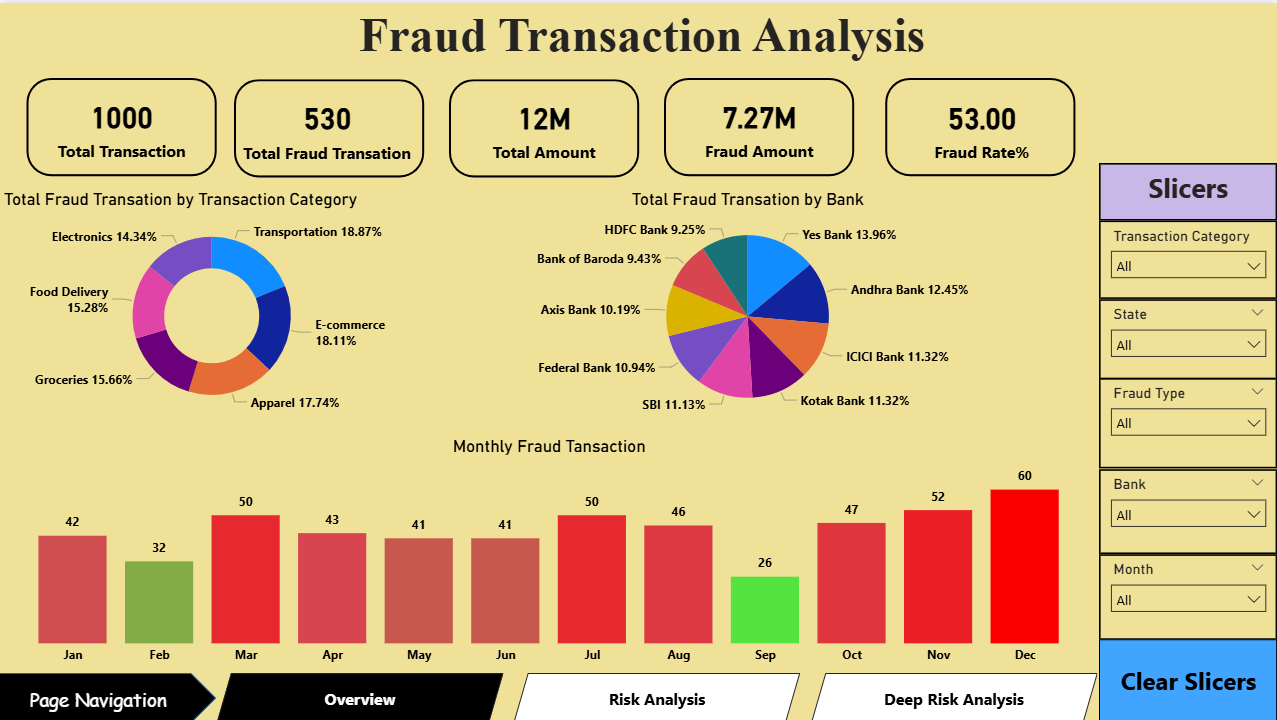

The dashboard page shown, as its layout file describes it:
{"tool":"powerbi","page":{"name":"Overview","canvas":[1280,720],"ordinal":0},"visuals":[{"type":"shape","box":[27,74.8,190.2,98.2],"z":0,"group":"g1"},{"type":"shape","box":[665,74.8,190.2,98.2],"z":0,"group":"g8"},{"type":"shape","box":[885.9,74.8,190.2,98.2],"z":0,"group":"g6"},{"type":"shape","box":[235.6,76.1,190.2,98.2],"z":0,"group":"g3"},{"type":"shape","box":[450.3,76.1,190.2,98.2],"z":0,"group":"g2"},{"type":"pageNavigator","box":[217.2,669.9,883.4,50.3],"z":0,"group":"g10"},{"type":"group","id":"g1","title":"Group 1","box":[27,74.8,190.2,98.2],"z":1000},{"type":"card","fields":{"Values":["Credit Card Fraud Risk Analysis.Total Transaction"]},"box":[43,78.5,158.3,89.6],"z":1000,"group":"g1"},{"type":"card","fields":{"Values":["Credit Card Fraud Risk Analysis.Fraud Amount"]},"box":[681,78.5,158.3,89.6],"z":1000,"group":"g9"},{"type":"card","fields":{"Values":["Credit Card Fraud Risk Analysis.Total Fraud Transation"]},"box":[239.4,78.9,179.1,93.3],"z":1000,"group":"g3"},{"type":"card","fields":{"Values":["Credit Card Fraud Risk Analysis.Fraud Rate%"]},"box":[903.1,79.7,158.3,89.6],"z":1000,"group":"g7"},{"type":"card","fields":{"Values":["Credit Card Fraud Risk Analysis.Total Revenue"]},"box":[466.3,79.8,158.3,89.6],"z":1000,"group":"g2"},{"type":"shape","box":[0,669.9,217.2,50.3],"z":1000,"group":"g10"},{"type":"group","id":"g2","title":"Group 1","box":[450.3,76.1,190.2,98.2],"z":2000},{"type":"textbox","box":[17.2,678.5,163.2,41.7],"z":2000,"group":"g10"},{"type":"group","id":"g3","title":"Group 1","box":[235.6,76.1,190.2,98.2],"z":3000},{"type":"group","id":"g4","title":"Group 2","box":[885.9,74.8,190.2,98.2],"z":4000},{"type":"group","id":"g5","title":"Group 3","box":[665,74.8,190.2,98.2],"z":5000},{"type":"group","id":"g6","title":"Group 1","box":[885.9,74.8,190.2,98.2],"z":5000,"group":"g4"},{"type":"group","id":"g7","title":"Group 1","box":[903.1,79.7,158.3,89.6],"z":6000,"group":"g4"},{"type":"group","id":"g8","title":"Group 1","box":[665,74.8,190.2,98.2],"z":7000,"group":"g5"},{"type":"clusteredColumnChart","title":"Monthly Fraud Tansaction","fields":{"Y":["Credit Card Fraud Risk Analysis.Total Fraud Transation"],"Category":["Calender.MonthName"]},"box":[0,431.9,1100.6,238],"z":7000},{"type":"group","id":"g9","title":"Group 1","box":[681,78.5,158.3,89.6],"z":8000,"group":"g5"},{"type":"textbox","box":[6.1,0,1273.6,65],"z":9000},{"type":"slicer","fields":{"Values":["Calender.MonthName"]},"box":[1100.6,550.9,179.1,85.9],"z":10000},{"type":"actionButton","box":[1100.6,636.8,179.1,83.4],"z":11000},{"type":"slicer","fields":{"Values":["Credit Card Fraud Risk Analysis.Bank"]},"box":[1100.6,466.3,179.1,84.7],"z":12000},{"type":"slicer","fields":{"Values":["Credit Card Fraud Risk Analysis.Fraud Type"]},"box":[1100.6,375.5,179.1,90.8],"z":13000},{"type":"slicer","fields":{"Values":["Credit Card Fraud Risk Analysis.State"]},"box":[1100.6,295.7,179.1,79.8],"z":14000},{"type":"slicer","fields":{"Values":["Credit Card Fraud Risk Analysis.Transaction Category"]},"box":[1100.6,217.2,179.1,78.5],"z":15000},{"type":"textbox","box":[1100.6,159.5,179.1,57.7],"z":16000},{"type":"group","id":"g10","title":"Group 4","box":[0,669.9,1100.6,50.3],"z":16005},{"type":"donutChart","fields":{"Category":["Credit Card Fraud Risk Analysis.Transaction Category"],"Y":["Credit Card Fraud Risk Analysis.Total Fraud Transation"]},"box":[0,186.5,425.8,234.4],"z":16006},{"type":"pieChart","fields":{"Category":["Credit Card Fraud Risk Analysis.Bank"],"Y":["Credit Card Fraud Risk Analysis.Total Fraud Transation"]},"box":[418.4,186.5,660.1,235.6],"z":16007}]}

Visuals, with their boxes in screenshot pixels (x1, y1, x2, y2), scaled from the page's 1280x720 canvas onto the 1277x720 screenshot:
shape: locate(27, 75, 217, 173)
shape: locate(663, 75, 853, 173)
shape: locate(884, 75, 1074, 173)
shape: locate(235, 76, 425, 174)
shape: locate(449, 76, 639, 174)
pageNavigator: locate(217, 670, 1098, 719)
"Group 1" group: locate(27, 75, 217, 173)
card - Credit Card Fraud Risk Analysis.Total Transaction: locate(43, 78, 201, 168)
card - Credit Card Fraud Risk Analysis.Fraud Amount: locate(679, 78, 837, 168)
card - Credit Card Fraud Risk Analysis.Total Fraud Transation: locate(239, 79, 418, 172)
card - Credit Card Fraud Risk Analysis.Fraud Rate%: locate(901, 80, 1059, 169)
card - Credit Card Fraud Risk Analysis.Total Revenue: locate(465, 80, 623, 169)
shape: locate(0, 670, 217, 719)
"Group 1" group: locate(449, 76, 639, 174)
textbox: locate(17, 678, 180, 719)
"Group 1" group: locate(235, 76, 425, 174)
"Group 2" group: locate(884, 75, 1074, 173)
"Group 3" group: locate(663, 75, 853, 173)
"Group 1" group: locate(884, 75, 1074, 173)
"Group 1" group: locate(901, 80, 1059, 169)
"Group 1" group: locate(663, 75, 853, 173)
"Monthly Fraud Tansaction" clusteredColumnChart: locate(0, 432, 1098, 670)
"Group 1" group: locate(679, 78, 837, 168)
textbox: locate(6, 0, 1276, 65)
slicer - Calender.MonthName: locate(1098, 551, 1276, 637)
actionButton: locate(1098, 637, 1276, 719)
slicer - Credit Card Fraud Risk Analysis.Bank: locate(1098, 466, 1276, 551)
slicer - Credit Card Fraud Risk Analysis.Fraud Type: locate(1098, 376, 1276, 466)
slicer - Credit Card Fraud Risk Analysis.State: locate(1098, 296, 1276, 376)
slicer - Credit Card Fraud Risk Analysis.Transaction Category: locate(1098, 217, 1276, 296)
textbox: locate(1098, 160, 1276, 217)
"Group 4" group: locate(0, 670, 1098, 719)
donutChart - Credit Card Fraud Risk Analysis.Transaction Category x Credit Card Fraud Risk Analysis.Total Fraud Transation: locate(0, 186, 425, 421)
pieChart - Credit Card Fraud Risk Analysis.Bank x Credit Card Fraud Risk Analysis.Total Fraud Transation: locate(417, 186, 1076, 422)
